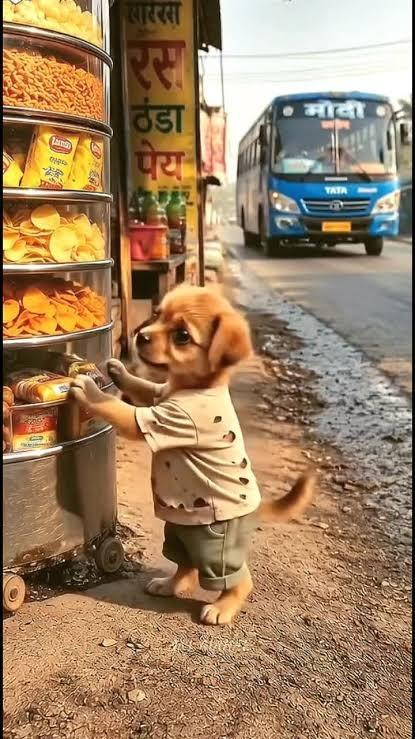puppy-dog: (69, 284, 319, 627)
